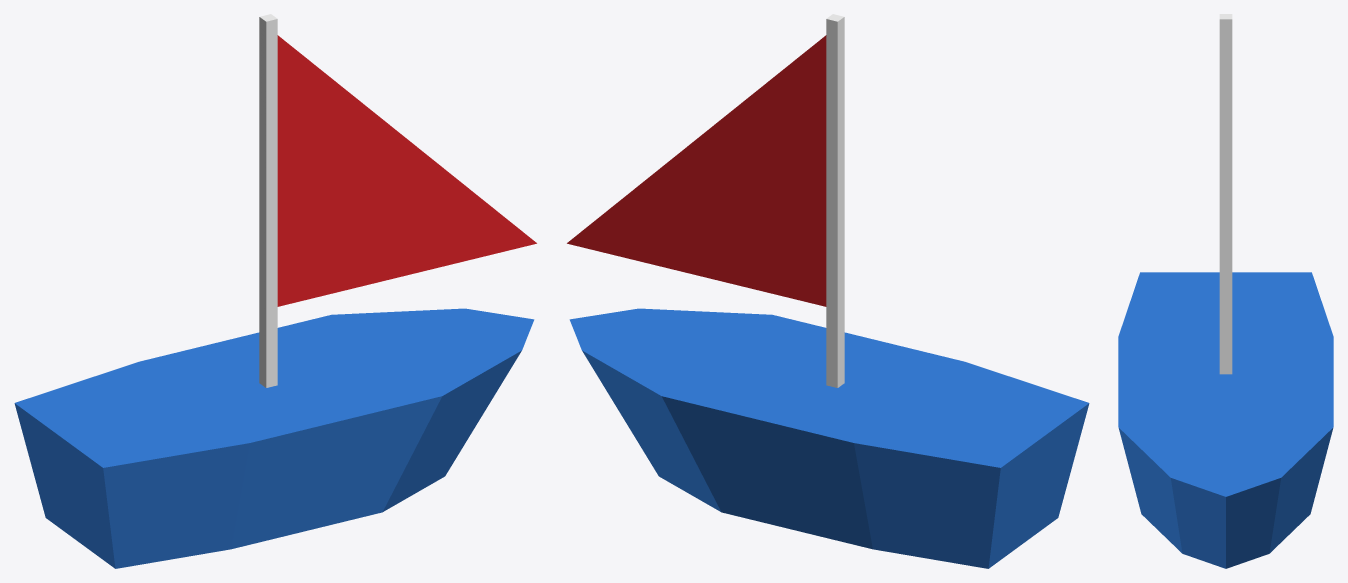
Rendered from ToyBoat.fbx.
The picture shows the model from 3 angles, left to right: view 1: azimuth 30°, elevation 25°; view 2: azimuth 150°, elevation 25°; view 3: azimuth 270°, elevation 25°; orthographic projection. The views are drawn at different scales.
Parts seen in each view (by area): view 1: ToyBoat; view 2: ToyBoat; view 3: ToyBoat.
Boxes of the visible parts, x1,y1,x2,y2 form: ToyBoat: [14, 14, 536, 568]; ToyBoat: [567, 14, 1089, 568]; ToyBoat: [1118, 14, 1333, 568].
Bounding box in the file's own units: 0.4168 × 0.3997 × 0.1678.
